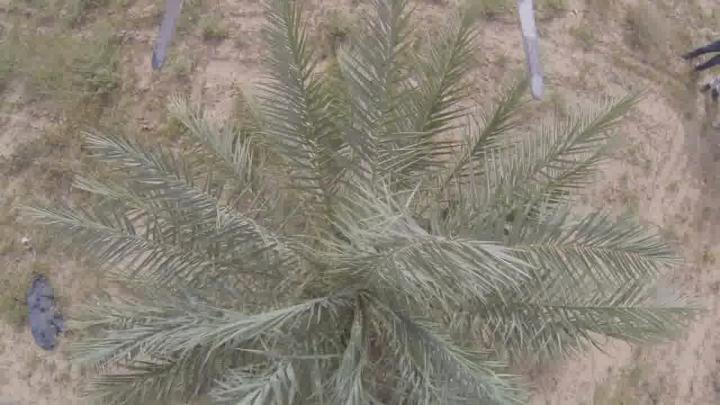Date-Palm-Crown: (206, 144, 507, 400)
